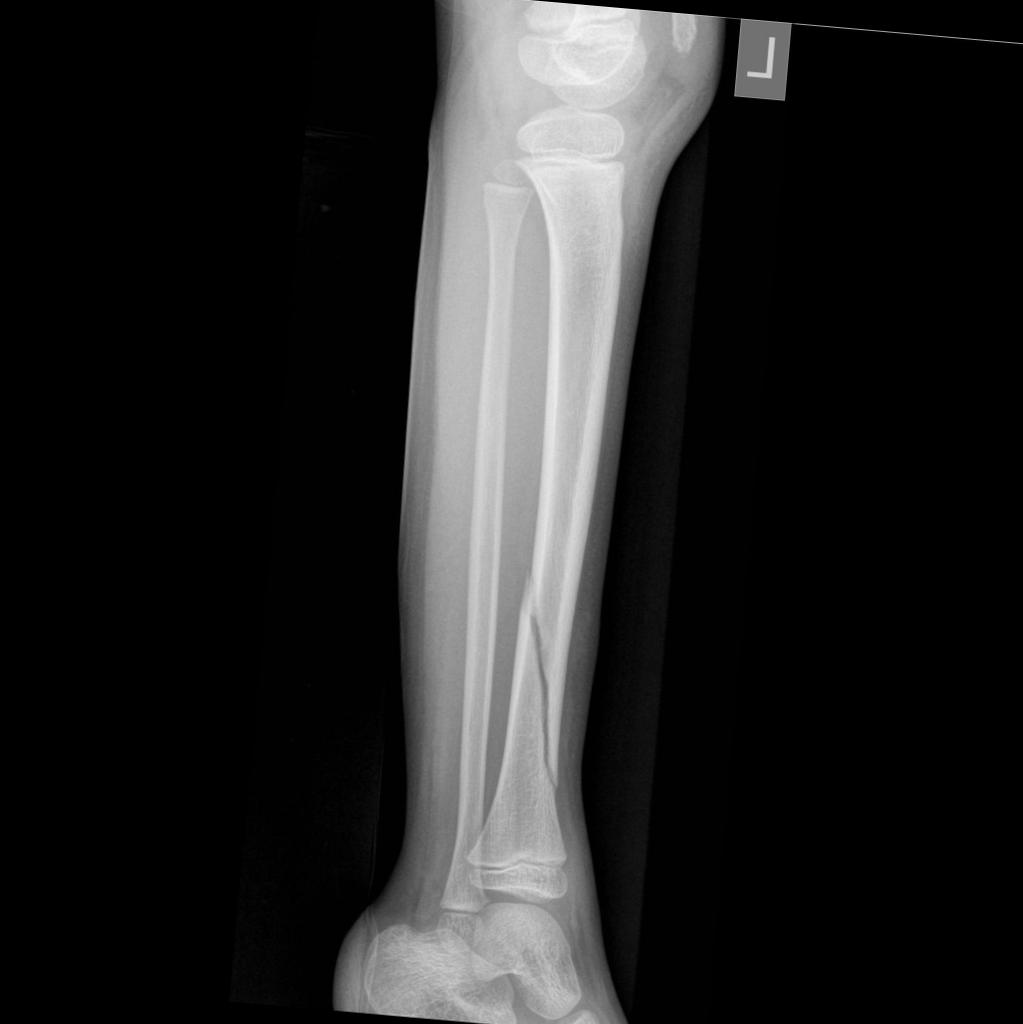line: (506, 573, 574, 801)
